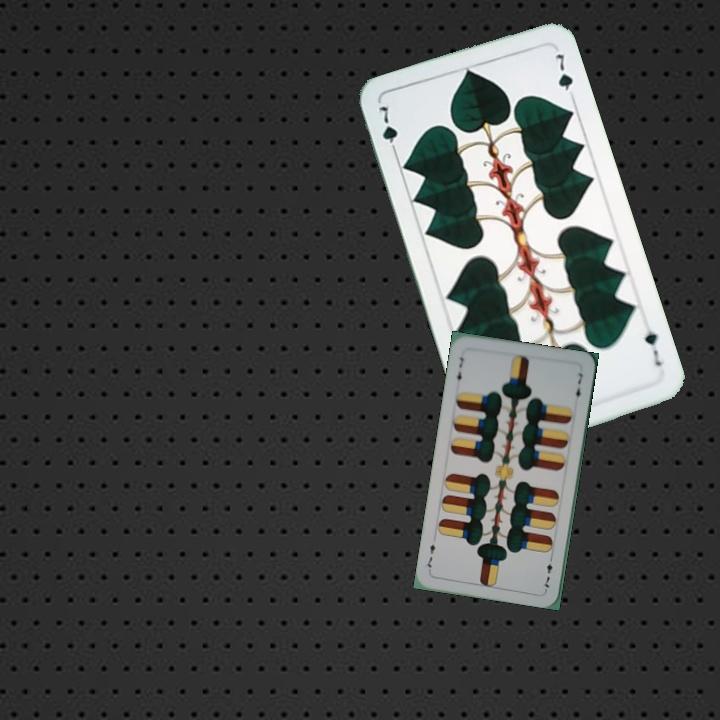E7: (540, 552, 555, 592), (452, 353, 466, 388)
G7: (375, 102, 401, 159), (640, 319, 664, 368)
